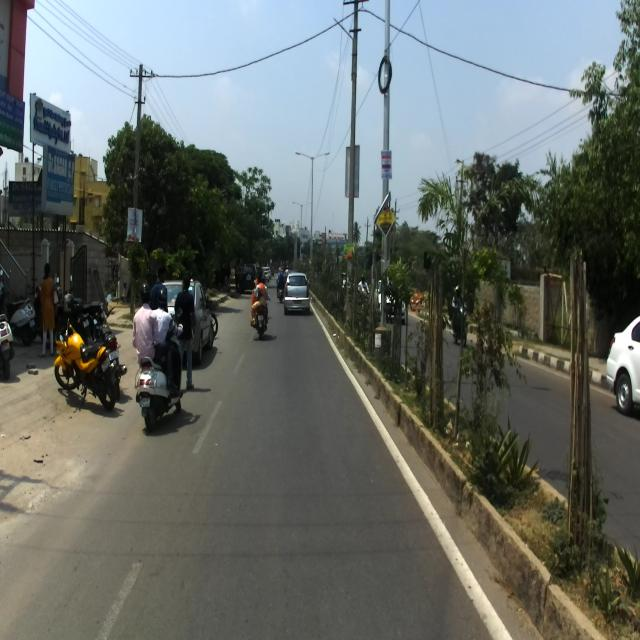motorcycle ahead at: (49, 309, 119, 408), (124, 354, 188, 428)
